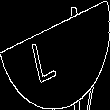L_N: (40, 26, 70, 84)
